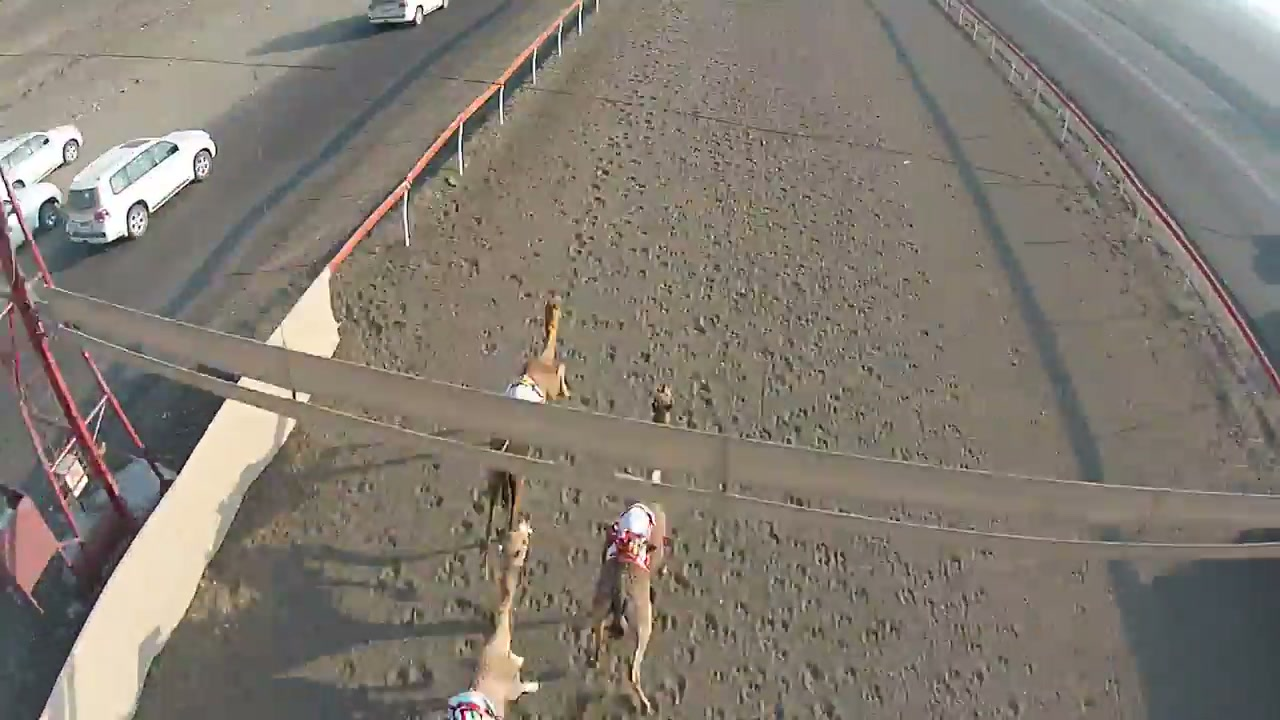animal_foot_print: (731, 173, 1010, 695), (535, 64, 720, 680), (357, 211, 549, 693), (651, 72, 771, 708), (549, 13, 649, 344)
